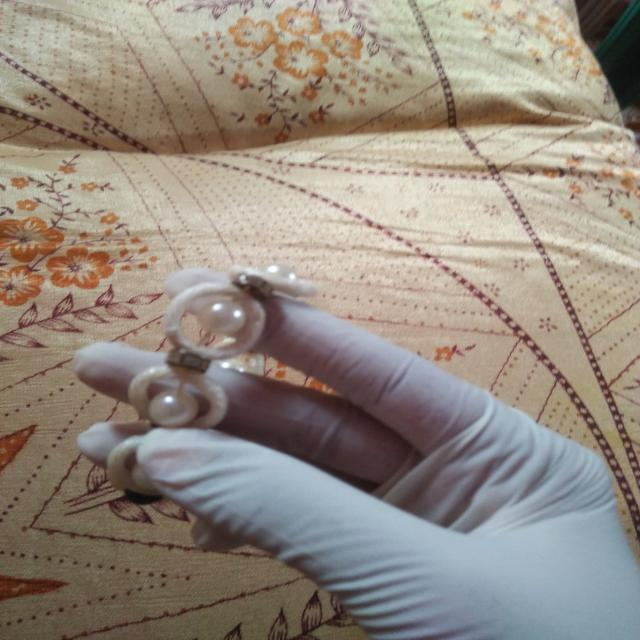glove_hand: (62, 266, 636, 636)
